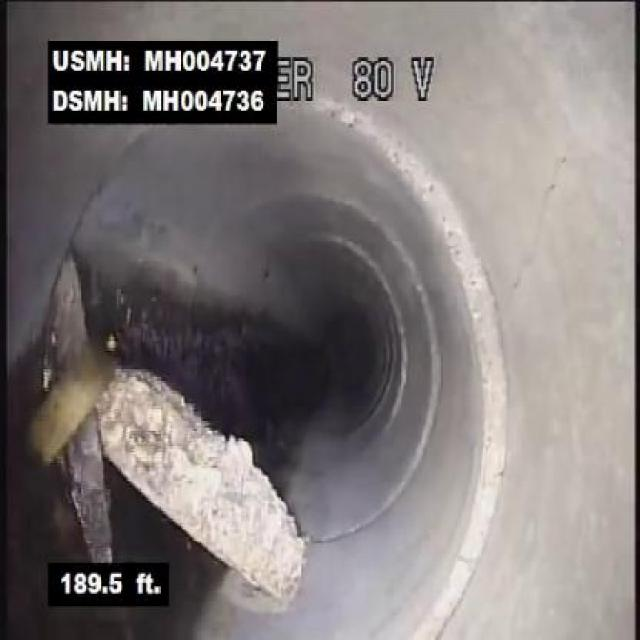Obstacle: (45, 270, 342, 562)
